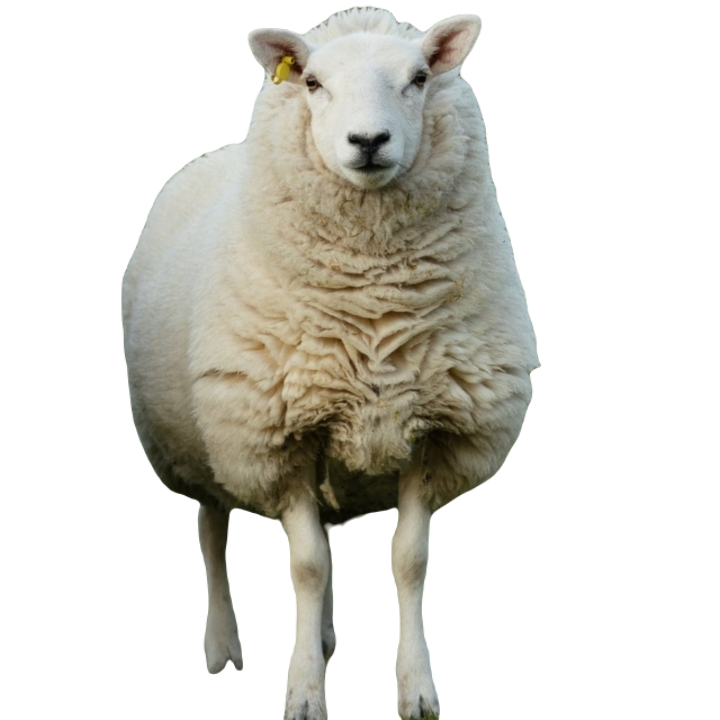Sheep: (114, 1, 546, 719)
